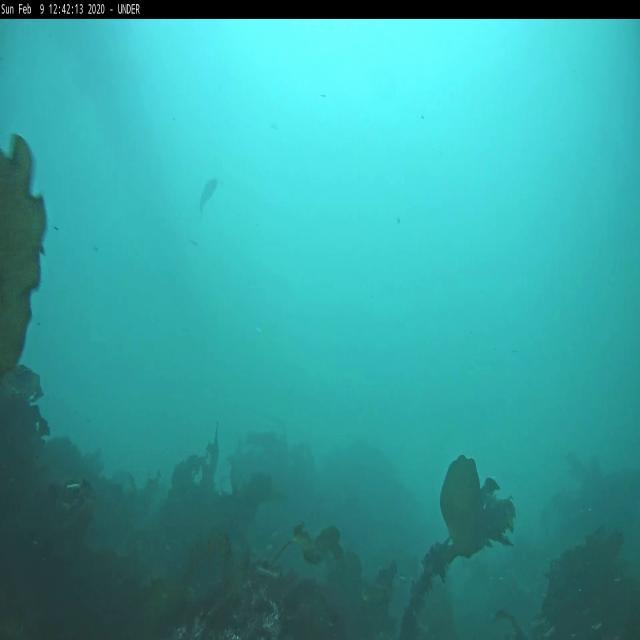fish: (198, 176, 219, 220)
